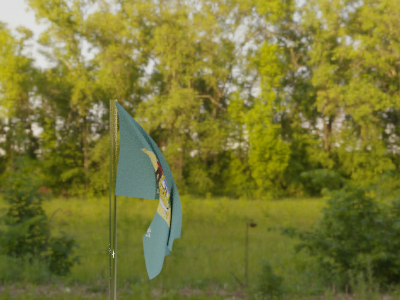Delaware flag: (112, 101, 184, 281)
